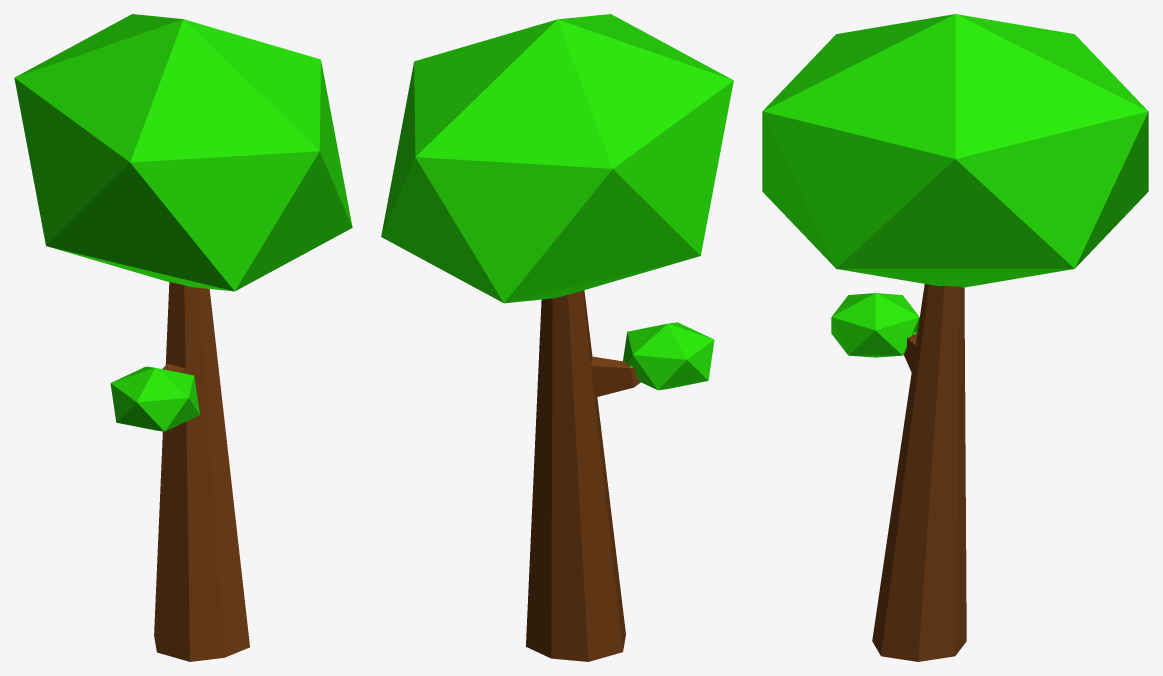
The model's file is Tree2.fbx.
3 renders of one model, left to right at view 1: azimuth 30°, elevation 25°; view 2: azimuth 150°, elevation 25°; view 3: azimuth 270°, elevation 25°, orthographic. The views are drawn at different scales.
Visible parts, largest first — view 1: Plane; view 2: Plane; view 3: Plane.
Part boxes in pixels (<box>): Plane: <box>14,14,352,661</box>; Plane: <box>381,14,733,661</box>; Plane: <box>762,14,1148,661</box>.
Bounding box in the file's own units: 630 × 1335 × 745.
